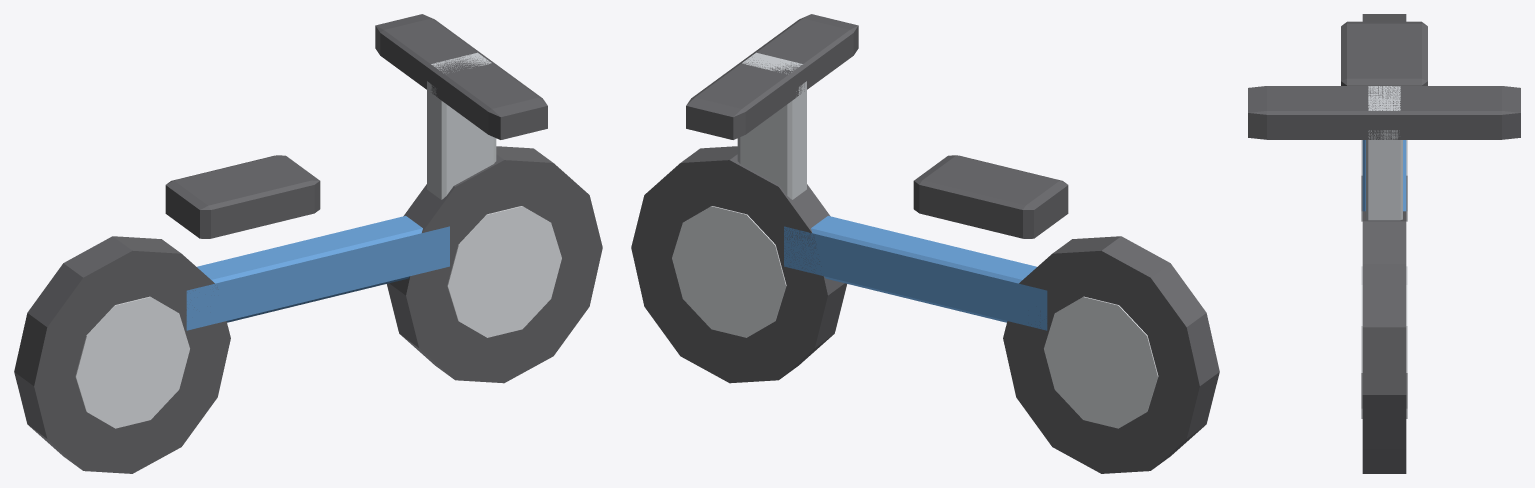
File: b03_stepthrough_city_bicycle.glb
The picture shows the model from 3 angles, left to right: view 1: azimuth 30°, elevation 25°; view 2: azimuth 150°, elevation 25°; view 3: azimuth 270°, elevation 25°; orthographic projection. The views are drawn at different scales.
Parts seen in each view (by area): view 1: b03_stepthrough_city_bicycle; view 2: b03_stepthrough_city_bicycle; view 3: b03_stepthrough_city_bicycle.
Part boxes in pixels (x1,y1,x2,y2): b03_stepthrough_city_bicycle: (14, 14, 602, 473); b03_stepthrough_city_bicycle: (631, 14, 1219, 473); b03_stepthrough_city_bicycle: (1248, 14, 1520, 473).
Size of the model in its own units: 1.94 by 1.04 by 0.74.
